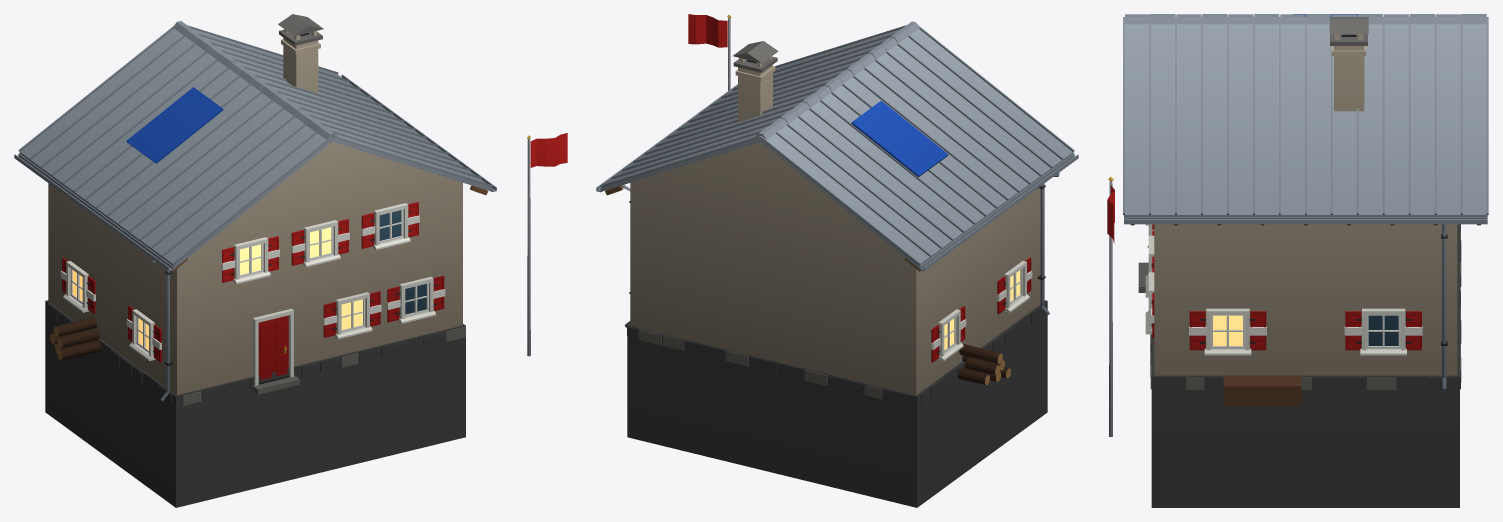
File: Refuge.fbx
The picture shows the model from 3 angles, left to right: view 1: azimuth 30°, elevation 25°; view 2: azimuth 150°, elevation 25°; view 3: azimuth 270°, elevation 25°; orthographic projection. The views are drawn at different scales.
Visible parts, largest first — view 1: Refuge_LOD0; view 2: Refuge_LOD0; view 3: Refuge_LOD0.
Boxes of the visible parts, x1,y1,x2,y2 form: Refuge_LOD0: (14,14,567,507); Refuge_LOD0: (596,14,1078,507); Refuge_LOD0: (1107,14,1488,507).
Size of what is drawn, in the model's own units: 13.02 by 11.29 by 8.81.
1 material, 1 textured.
